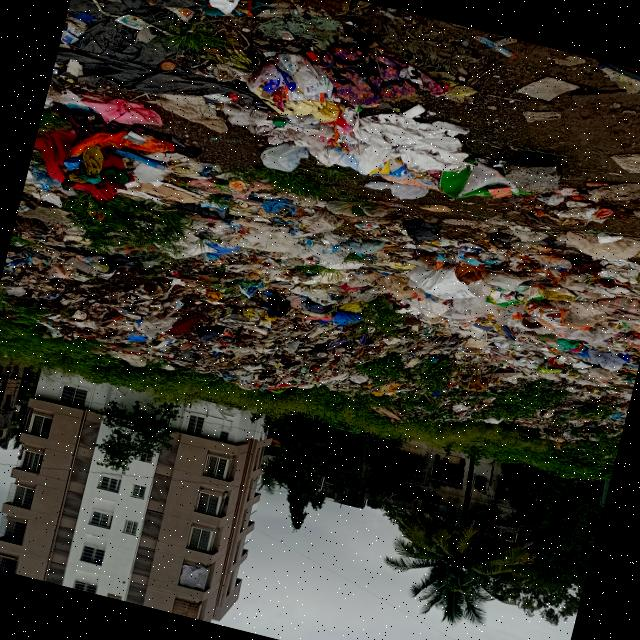garbage: (0, 107, 640, 473), (42, 0, 587, 235)
